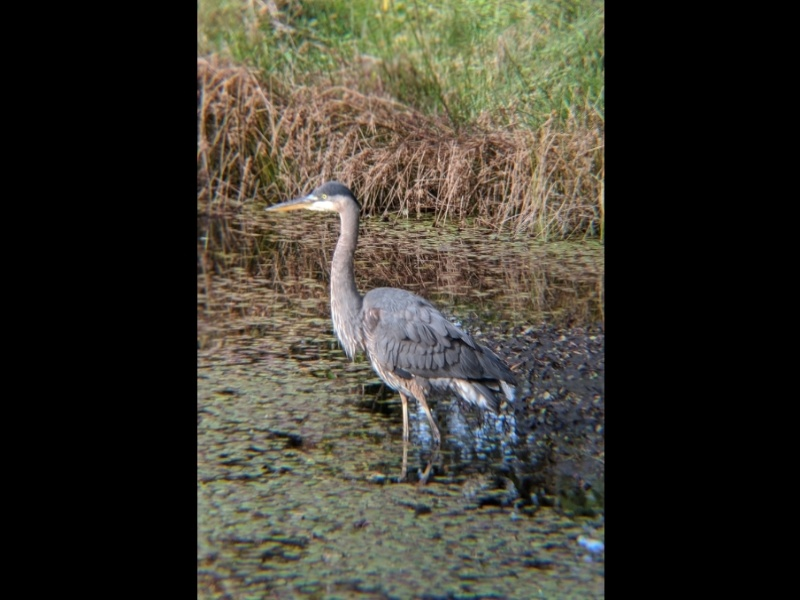heron: (266, 179, 522, 473)
